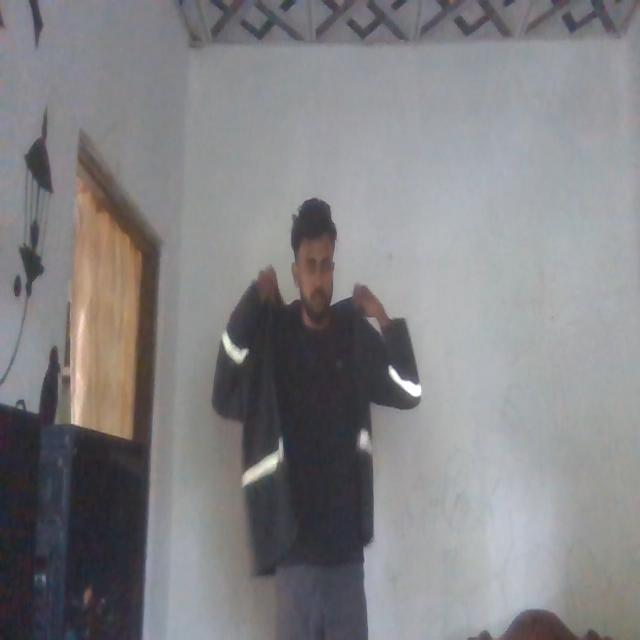Jacket_Wearer: (213, 276, 424, 564)
Person: (215, 190, 412, 640)
